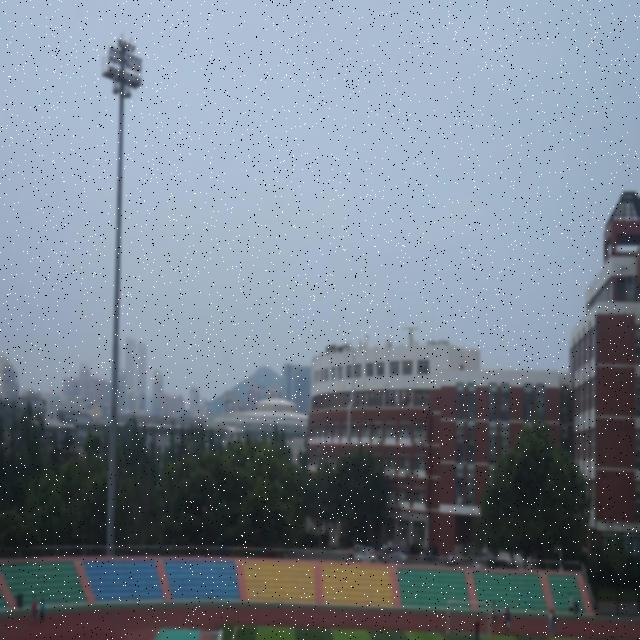UAV: (224, 426, 244, 442)
